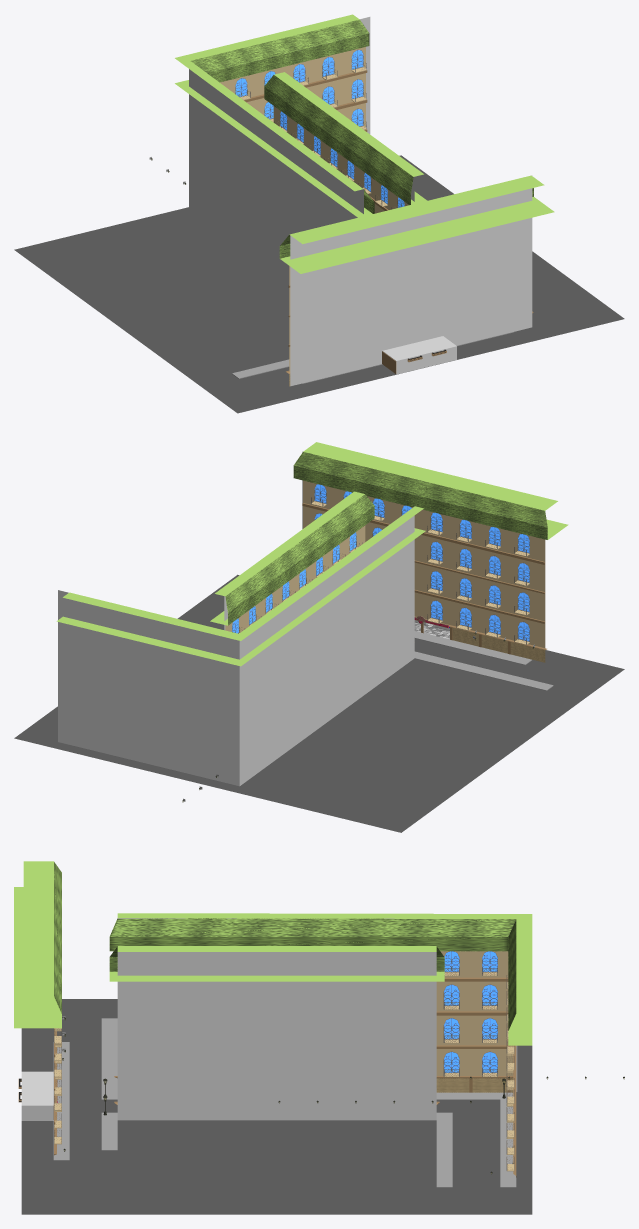
Rendered from city_lowpoly_UVfix.fbx.
The picture shows the model from 3 angles, top to bottom: view 1: azimuth 30°, elevation 25°; view 2: azimuth 150°, elevation 25°; view 3: azimuth 270°, elevation 25°; orthographic projection. The views are drawn at different scales.
Visible parts, largest first — view 1: Street, Plane.002, Plane.001, BBRoof, FBoof.001, SBRoof, BB, BBBalcony.002, SB, SBBalcony, Sidewalk; view 2: Plane.001, Street, FB, FBoof.001, SBRoof, BBRoof, FBalcony.001, Sidewalk, SB, SBBalcony; view 3: Street, Plane, BBRoof, FBoof.001, BB, Sidewalk, SBRoof, BBBalcony.001, Plane.002, BBBalcony.002, FBalcony.001.
Boxes of the visible parts, bbox=[...] form: Street: bbox=[14, 155, 624, 413]; Plane.002: bbox=[290, 175, 532, 386]; Plane.001: bbox=[189, 17, 370, 285]; BBRoof: bbox=[175, 14, 374, 217]; FBoof.001: bbox=[279, 175, 554, 273]; SBRoof: bbox=[264, 72, 427, 204]; BB: bbox=[220, 47, 367, 131]; BBBalcony.002: bbox=[235, 49, 366, 129]; SB: bbox=[273, 106, 408, 213]; SBBalcony: bbox=[274, 111, 404, 209]; Sidewalk: bbox=[232, 332, 513, 383]; Plane.001: bbox=[58, 506, 414, 786]; Street: bbox=[14, 574, 624, 832]; FB: bbox=[302, 480, 546, 662]; FBoof.001: bbox=[293, 442, 568, 539]; SBRoof: bbox=[210, 491, 374, 625]; BBRoof: bbox=[56, 506, 425, 666]; FBalcony.001: bbox=[311, 484, 529, 645]; Sidewalk: bbox=[70, 631, 553, 786]; SB: bbox=[225, 525, 365, 632]; SBBalcony: bbox=[232, 532, 362, 633]; Street: bbox=[21, 999, 532, 1214]; Plane: bbox=[117, 952, 436, 1120]; BBRoof: bbox=[109, 913, 532, 1045]; FBoof.001: bbox=[14, 861, 61, 1028]; BB: bbox=[114, 951, 516, 1175]; Sidewalk: bbox=[53, 1018, 516, 1187]; SBRoof: bbox=[109, 946, 444, 981]; BBBalcony.001: bbox=[443, 951, 497, 1077]; Plane.002: bbox=[21, 1071, 53, 1120]; BBBalcony.002: bbox=[506, 975, 514, 1171]; FBalcony.001: bbox=[54, 1028, 61, 1144].
Size of the model in its own units: 6400 by 2410 by 7659.
30 materials, 10 textured.
